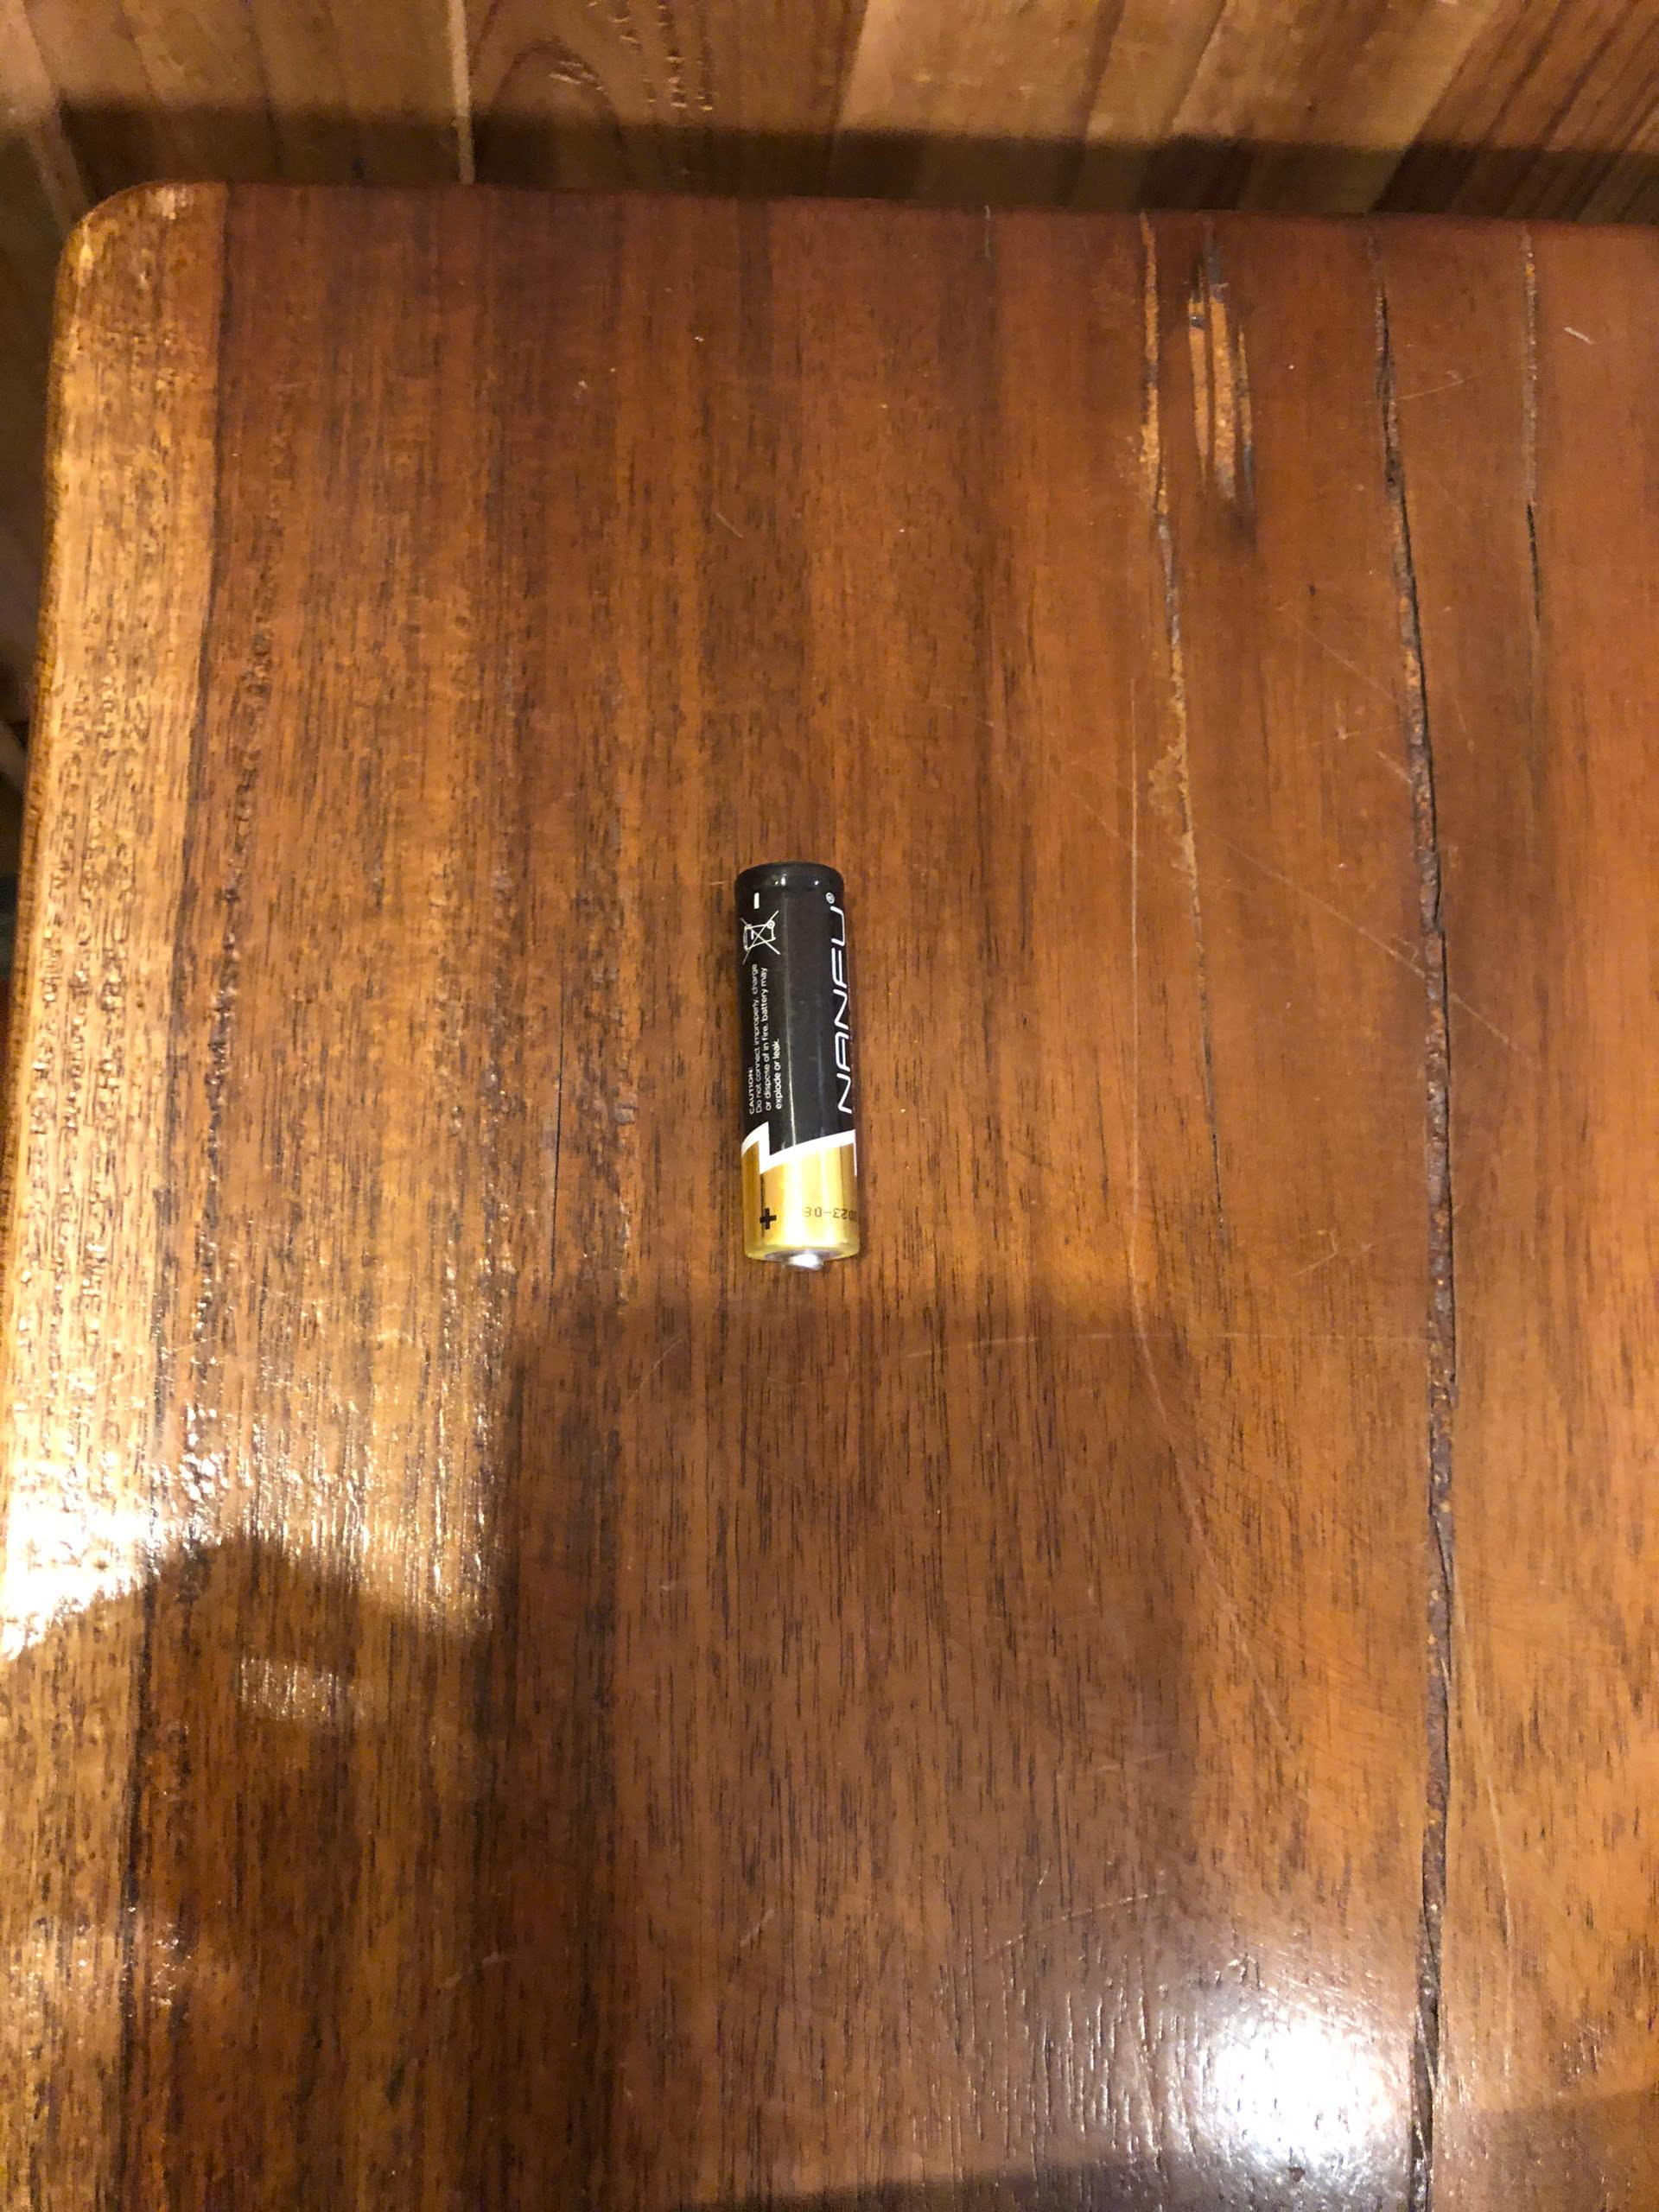Con lai: (725, 860, 864, 1284)
